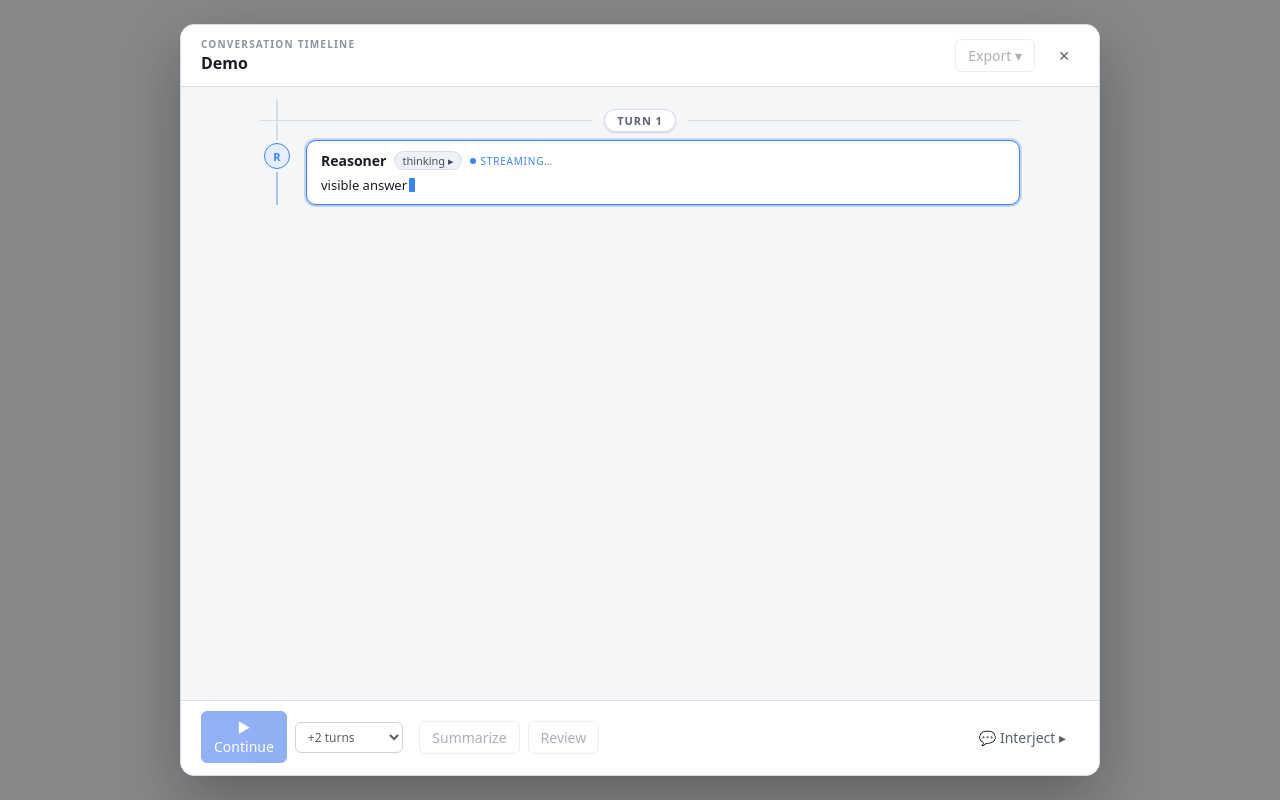
Scenario: TimelinePage › keeps live reasoning behind a thinking chip while the answer streams
Expected: the text "streaming…" is shown, [470, 154, 553, 168]
Expected: the text "visible answer" is shown, [321, 176, 415, 194]
Click the button "thinking ▸". click: (428, 160)
box: [394, 151, 462, 170]
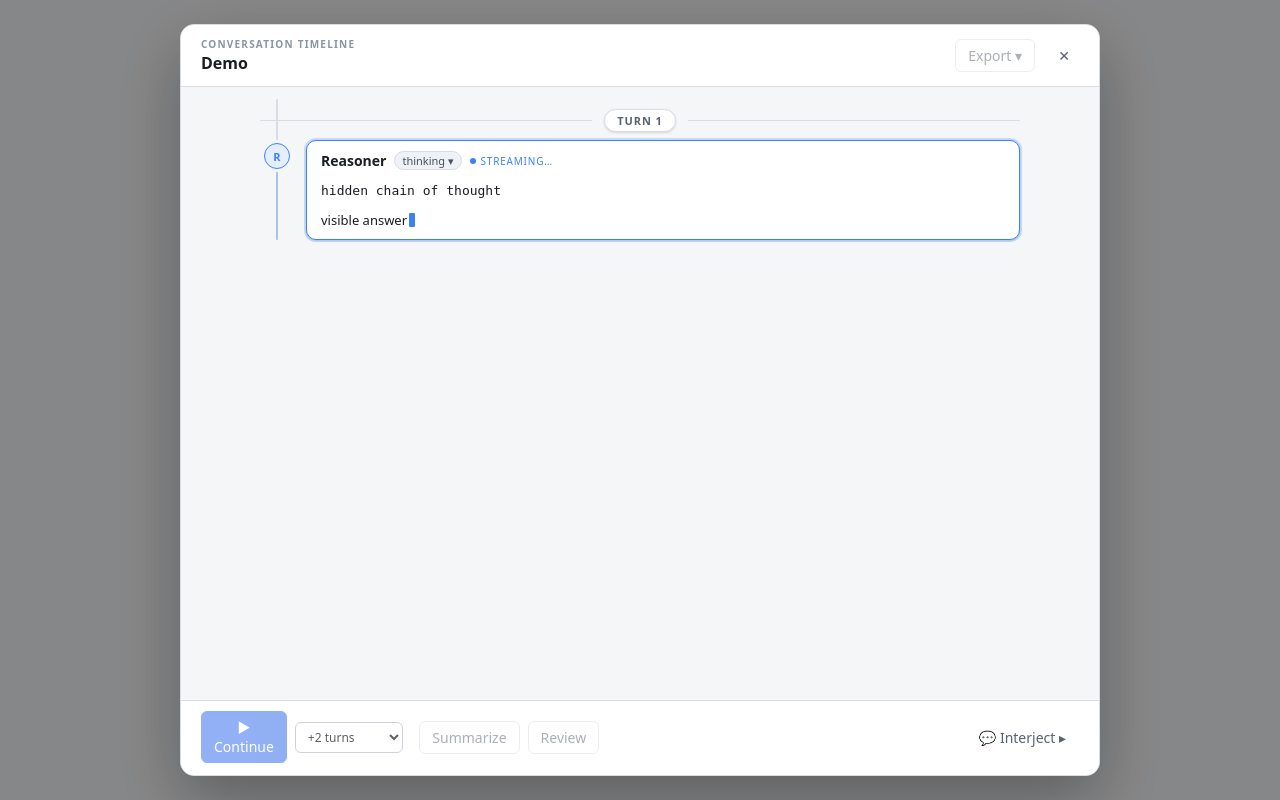
Expected: the text "hidden chain of thought" is shown, [321, 183, 501, 198]
